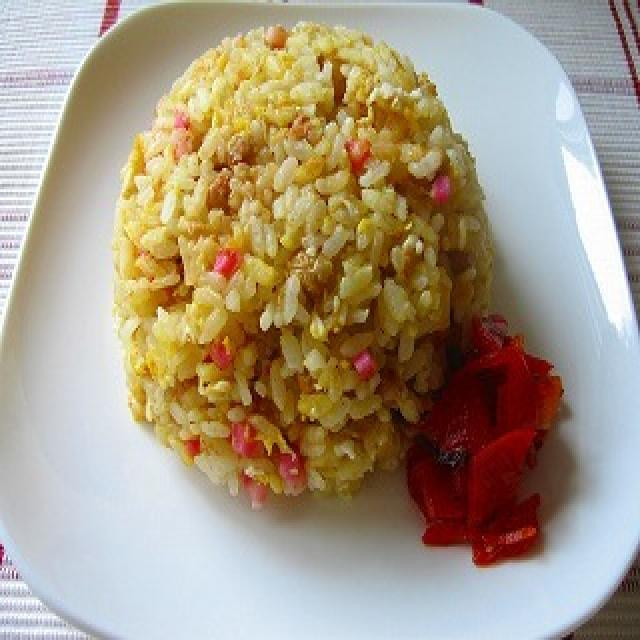米饭主食: (96, 5, 524, 528)
